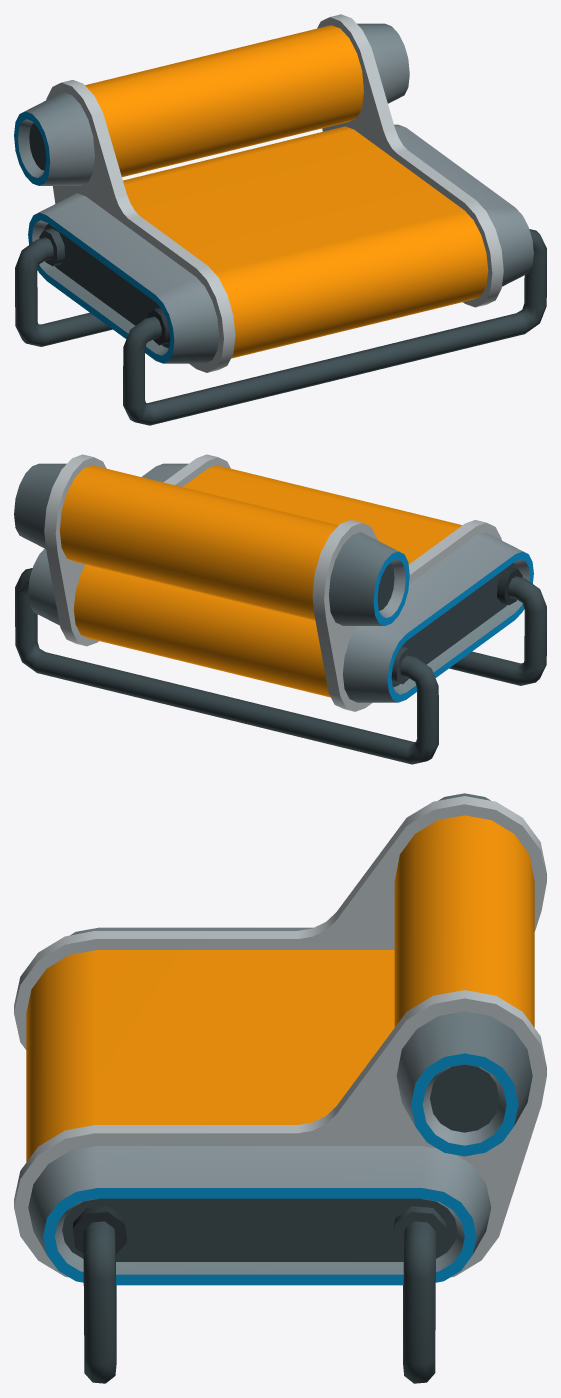
The model's file is Mini_sofa_003.fbx.
3 views of the same model, one above another, from view 1: azimuth 30°, elevation 25°; view 2: azimuth 150°, elevation 25°; view 3: azimuth 270°, elevation 25° (orthographic). The views are drawn at different scales.
Parts seen in each view (by area): view 1: Mini_sofa_003; view 2: Mini_sofa_003; view 3: Mini_sofa_003.
Part boxes in pixels (box(x1,y1,x2,y2)): Mini_sofa_003: box(14, 14, 546, 425); Mini_sofa_003: box(14, 454, 546, 764); Mini_sofa_003: box(14, 793, 546, 1383).
Size of the model in its own units: 132 by 97.99 by 71.08.
